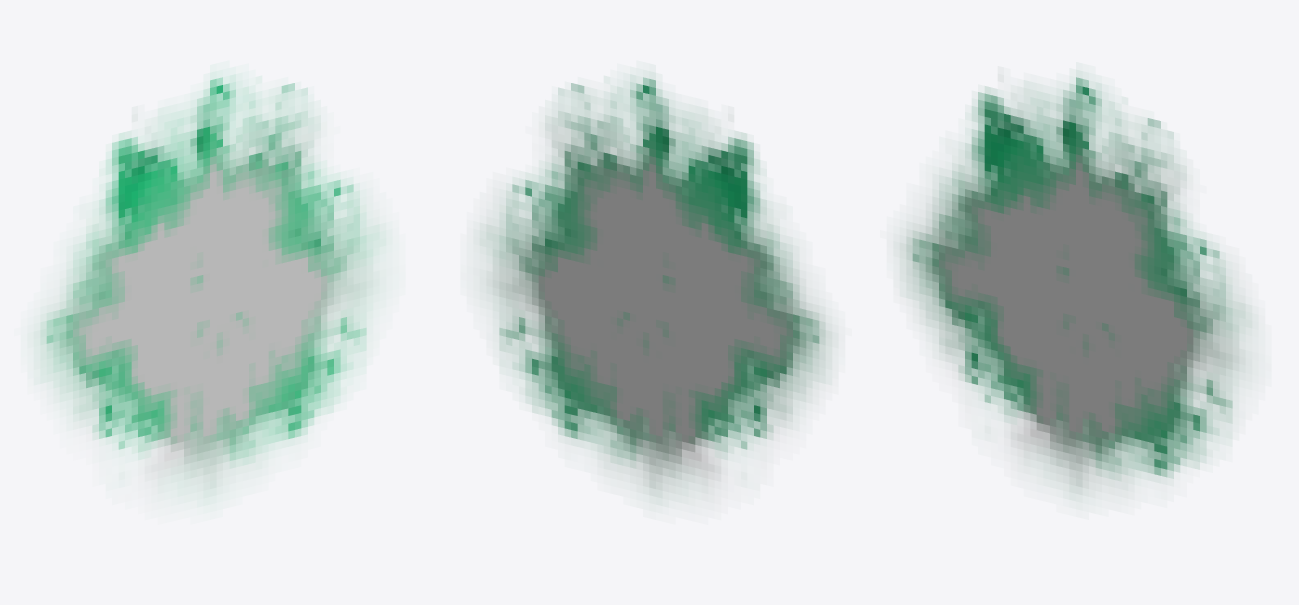
File: 13-reaper-flash.glb
The picture shows the model from 3 angles, left to right: view 1: azimuth 30°, elevation 25°; view 2: azimuth 150°, elevation 25°; view 3: azimuth 330°, elevation 25°; orthographic projection.
Visible parts, largest first — view 1: gun; view 2: gun; view 3: gun.
Part boxes in pixels (box(x1,y1,x2,y2)): gun: box(33, 77, 385, 498); gun: box(480, 77, 832, 498); gun: box(899, 77, 1251, 495).
Size of the model in its own units: 149 by 168 by 0.
Materials: 4 (4 with a texture image).
